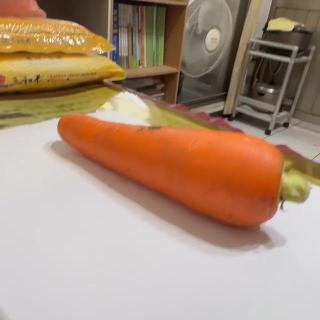carrot: (56, 112, 310, 230)
